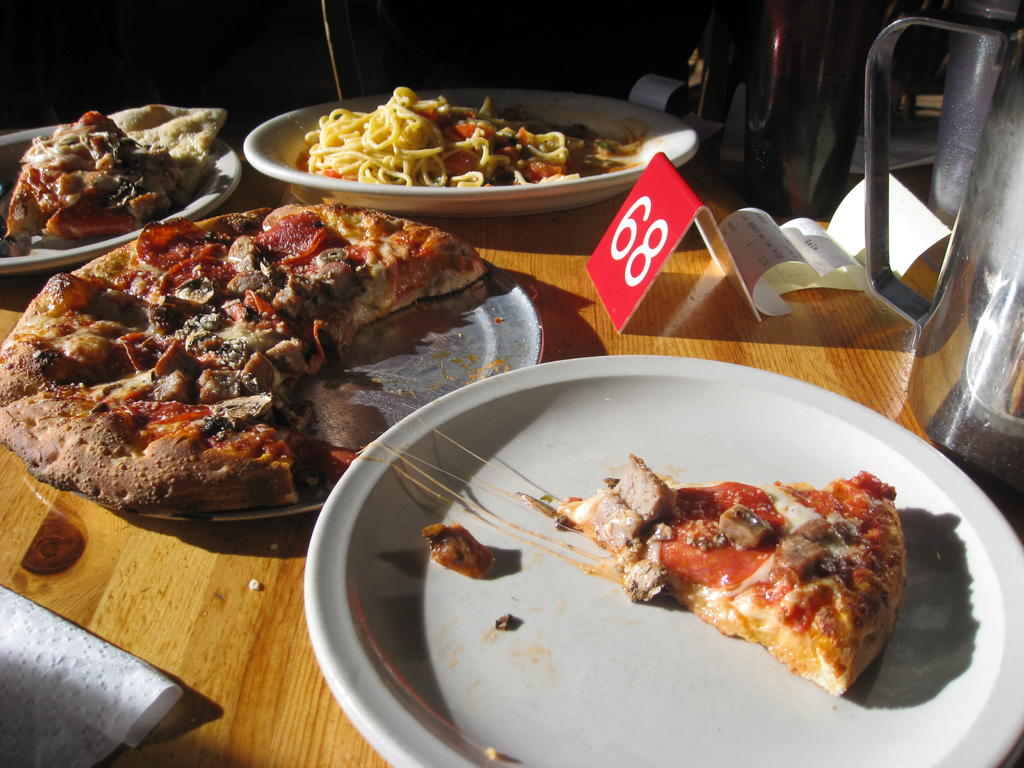Pizza: (0, 197, 480, 512), (533, 471, 916, 684), (0, 94, 241, 240)
